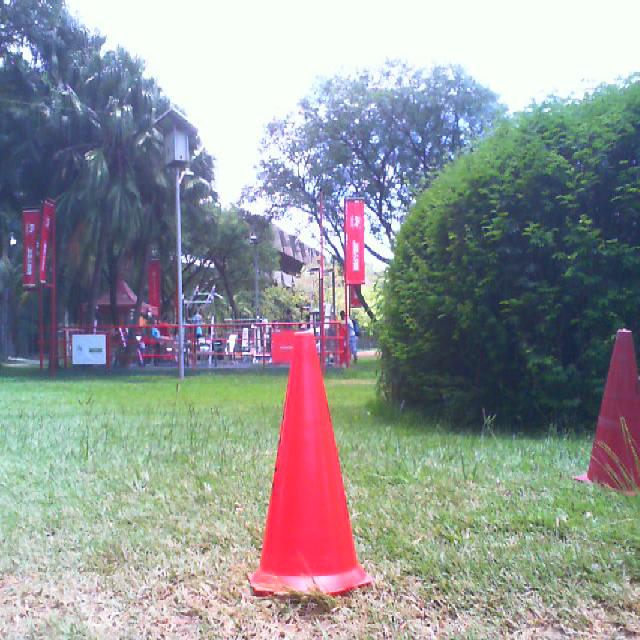cone: (246, 331, 372, 596), (571, 331, 640, 500)
